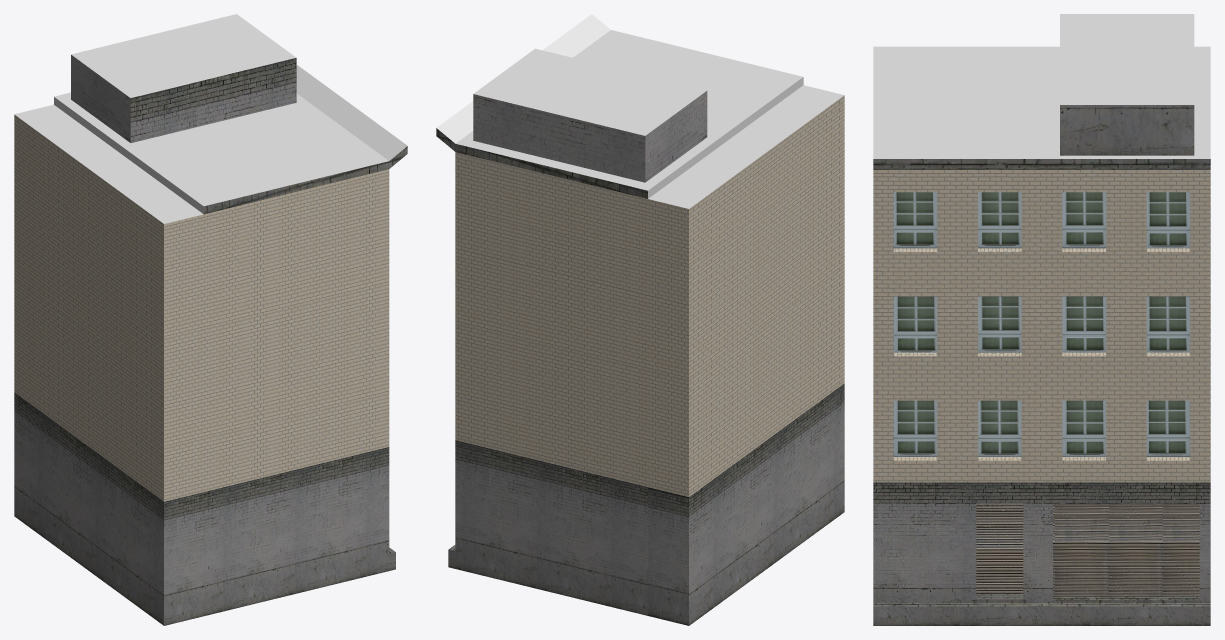
Rendered from дом1.fbx.
The picture shows the model from 3 angles, left to right: view 1: azimuth 30°, elevation 25°; view 2: azimuth 150°, elevation 25°; view 3: azimuth 270°, elevation 25°; orthographic projection. The views are drawn at different scales.
Parts seen in each view (by area): view 1: Cube; view 2: Cube; view 3: Cube.
Part boxes in pixels (x1,y1,x2,y2): Cube: (14,14,407,625); Cube: (436,14,844,625); Cube: (873,14,1210,625).
Size of the model in its own units: 263 by 469 by 280.
